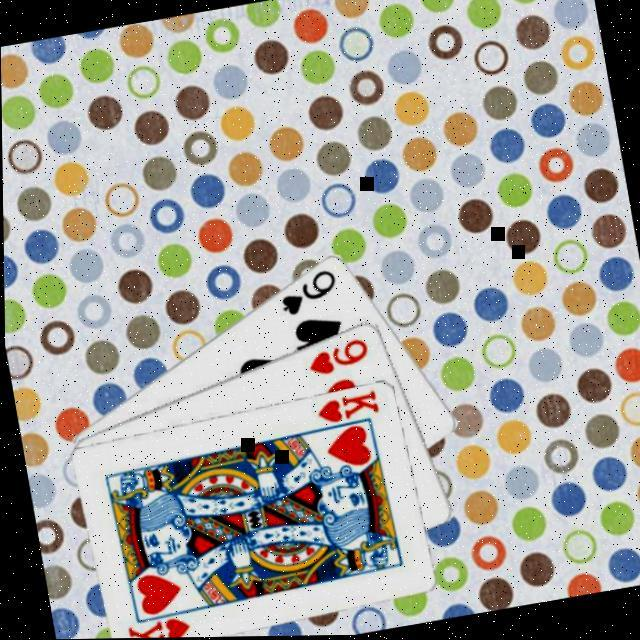9H: (300, 333, 372, 380)
9S: (271, 265, 342, 321)
KH: (310, 387, 380, 428), (120, 611, 192, 639)
